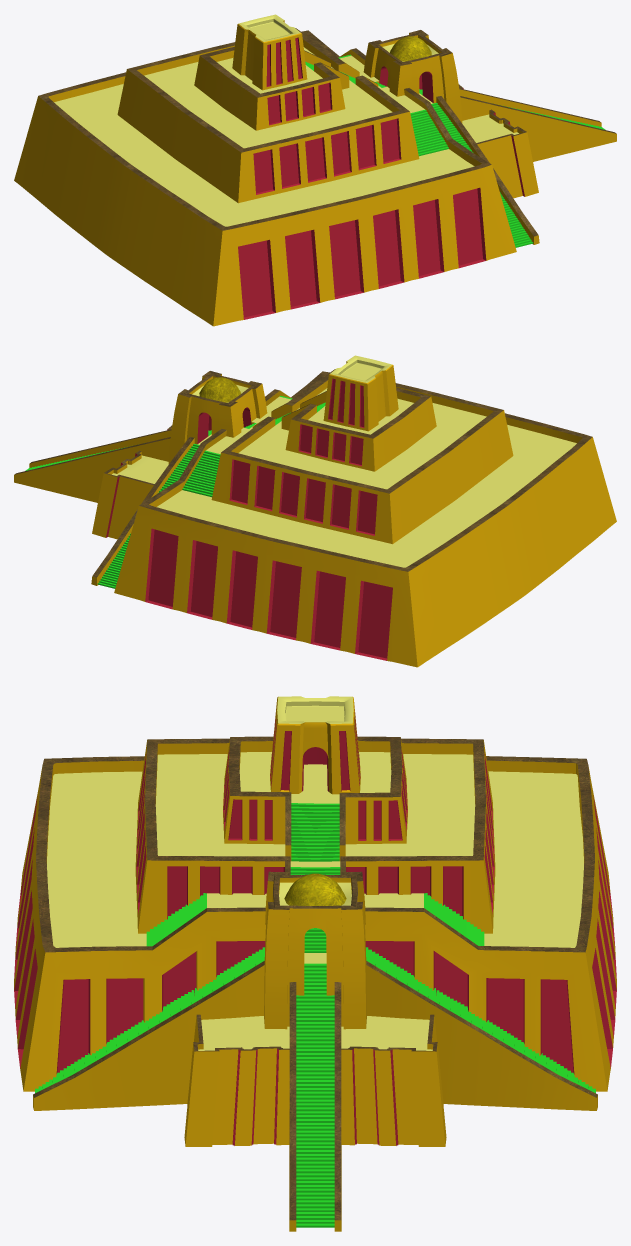
Rendered from Ziggurat.fbx.
3 views of the same model, one above another, from view 1: azimuth 30°, elevation 25°; view 2: azimuth 150°, elevation 25°; view 3: azimuth 270°, elevation 25° (orthographic). The views are drawn at different scales.
Parts seen in each view (by area): view 1: Cube.003; view 2: Cube.003; view 3: Cube.003.
Boxes of the visible parts, x1=… form: Cube.003: x1=14, y1=14, x2=616, y2=326; Cube.003: x1=14, y1=355, x2=616, y2=667; Cube.003: x1=14, y1=696, x2=616, y2=1231.
Bounding box in the file's own units: 7190 × 2595 × 5090.
